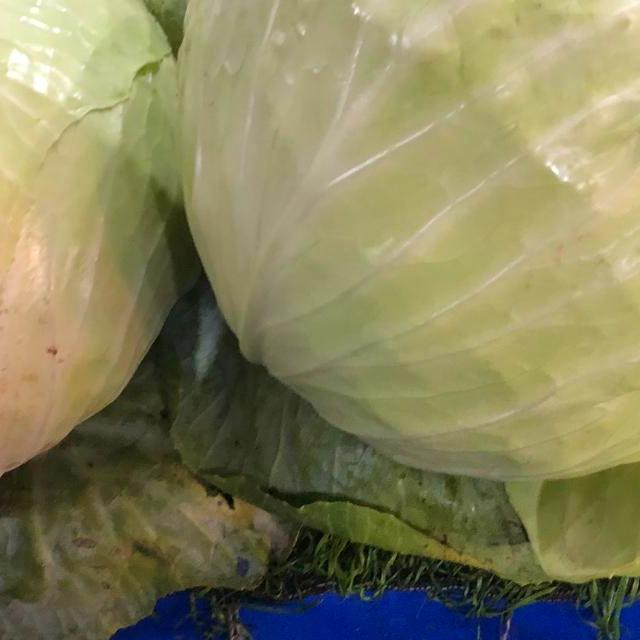cabbage: (155, 0, 640, 492), (0, 0, 190, 522)
